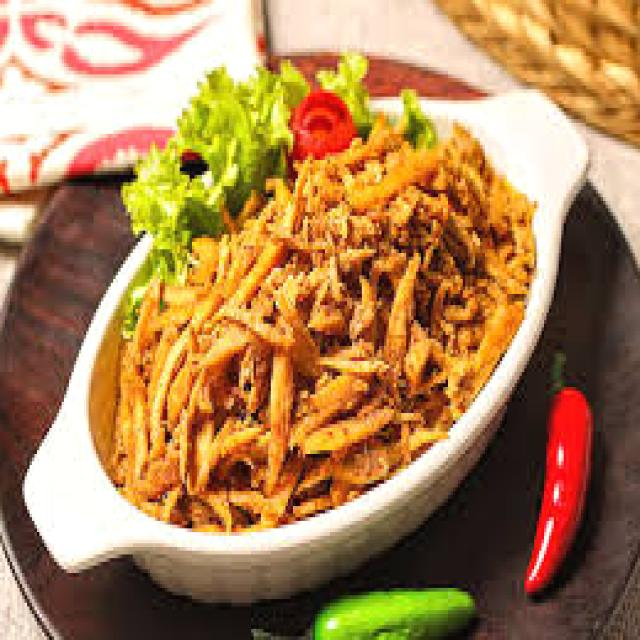ayam_suwir: (109, 90, 539, 534)
